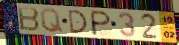2: (140, 12, 160, 41)
3: (117, 11, 137, 39)
B: (17, 6, 41, 33)
D: (67, 9, 89, 34)
P: (90, 9, 112, 37)
Q: (39, 7, 65, 34)
